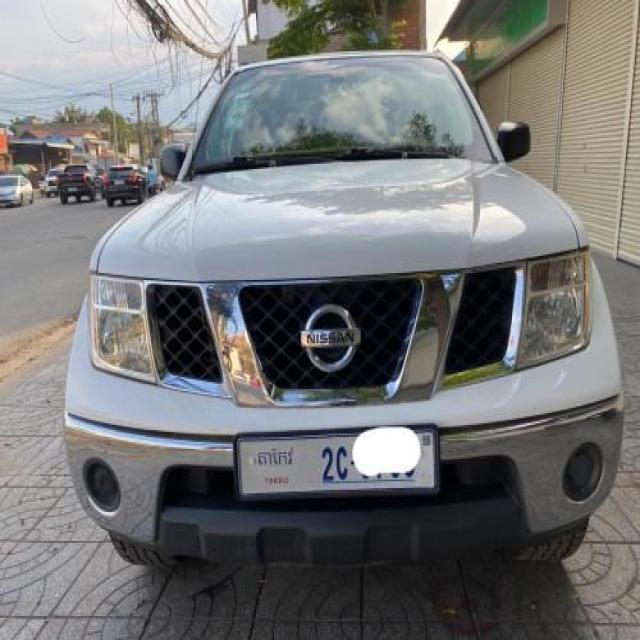Takeo: (258, 445, 295, 467)
